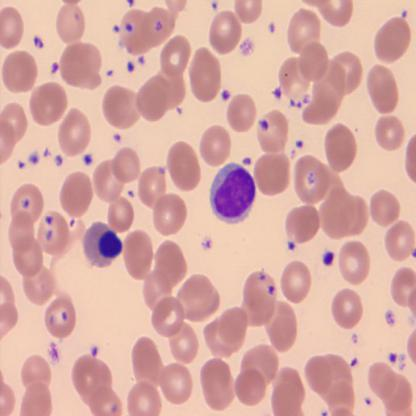NRC: (82, 222, 124, 269)
